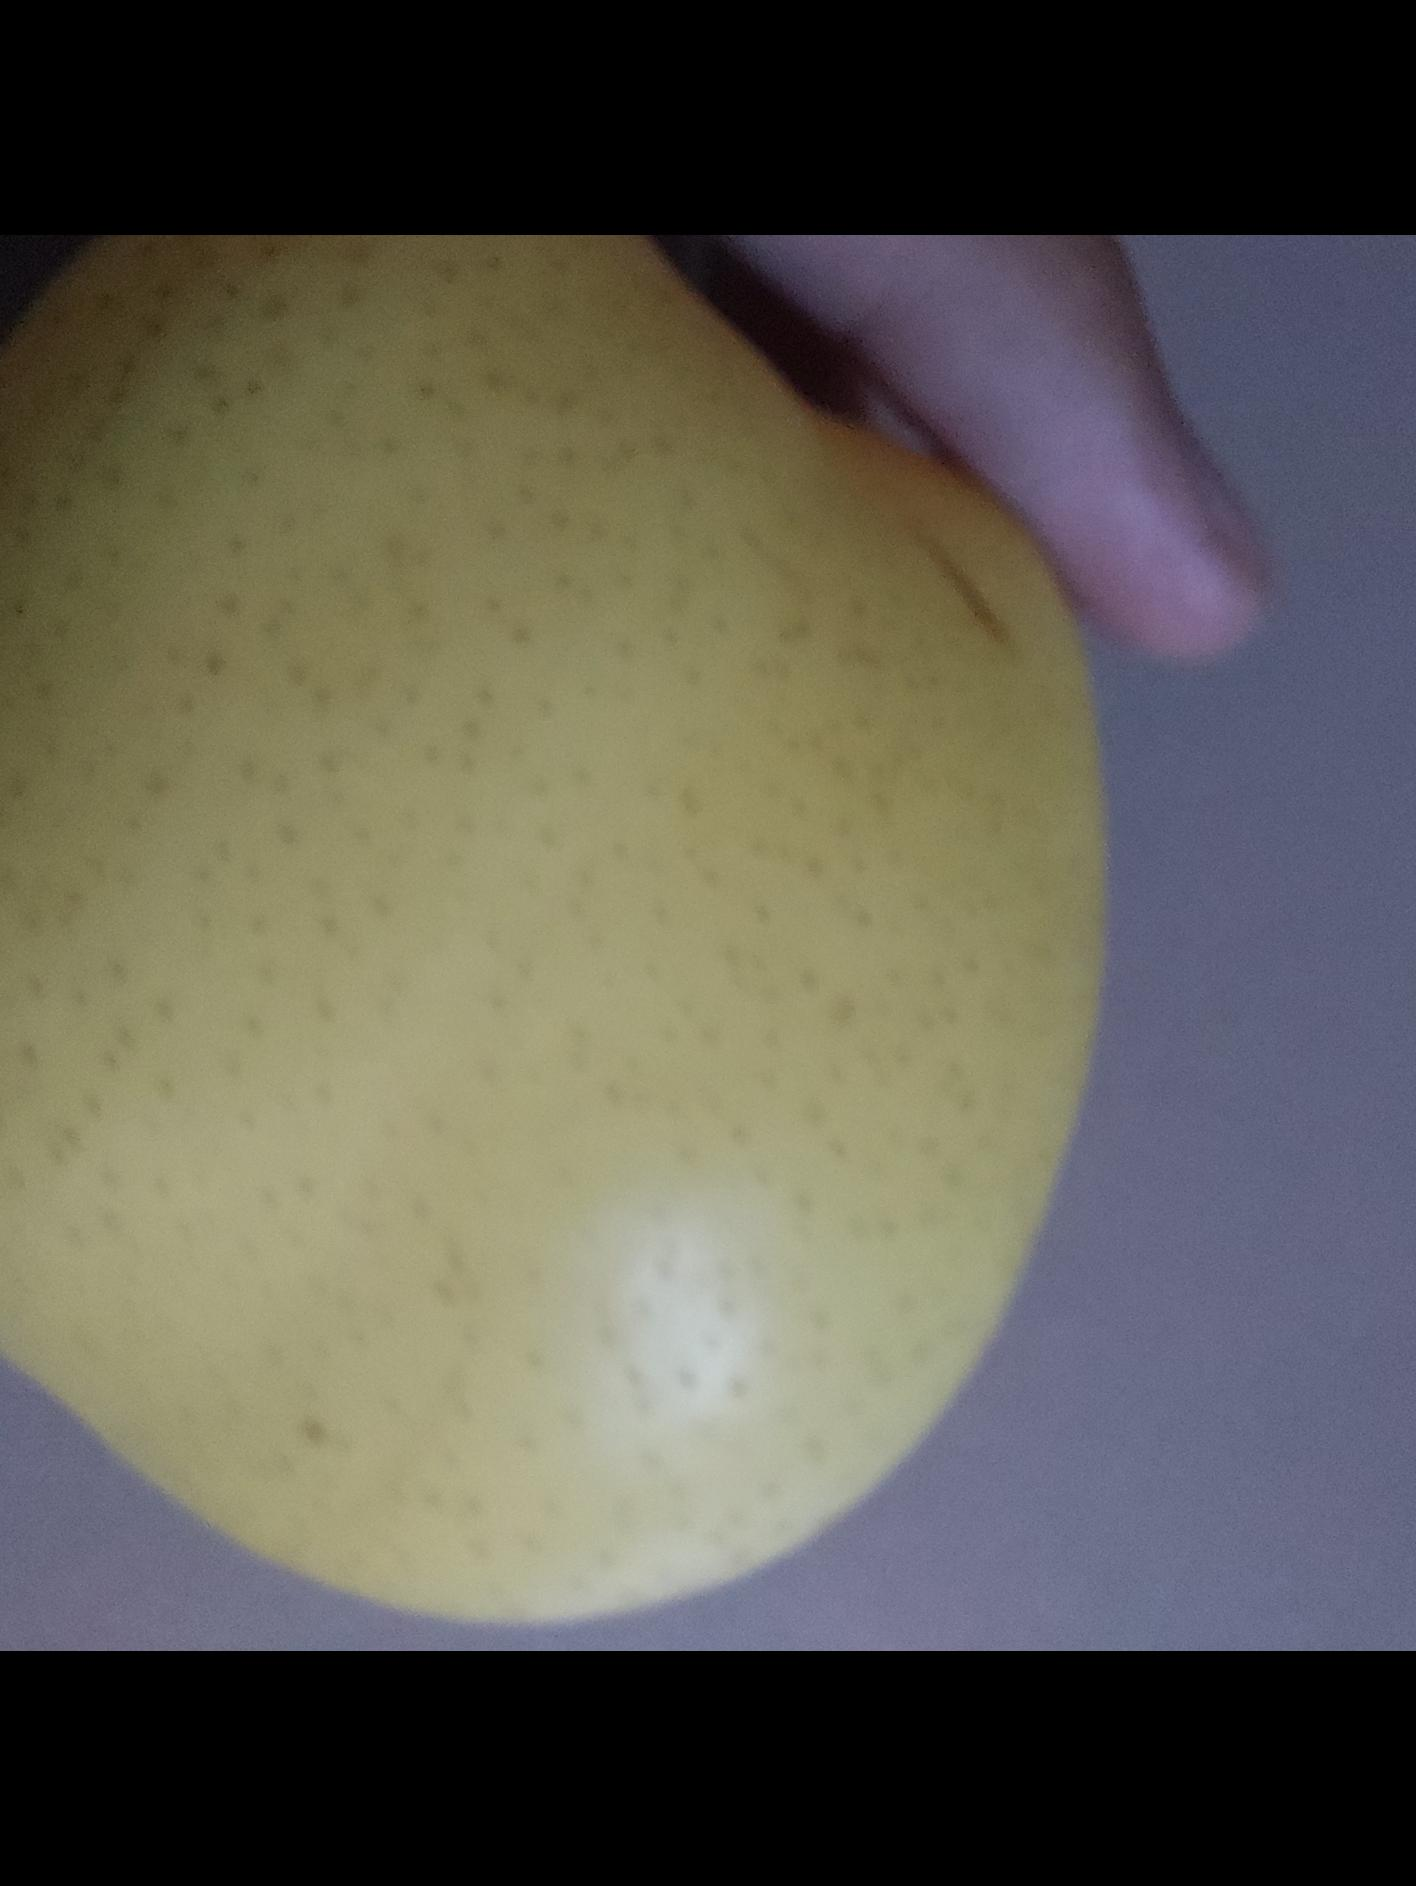Good Pear: (0, 553, 1104, 1630)
